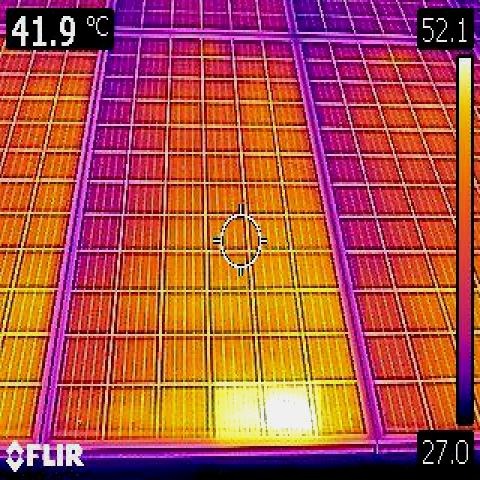fault: (216, 381, 321, 438)
